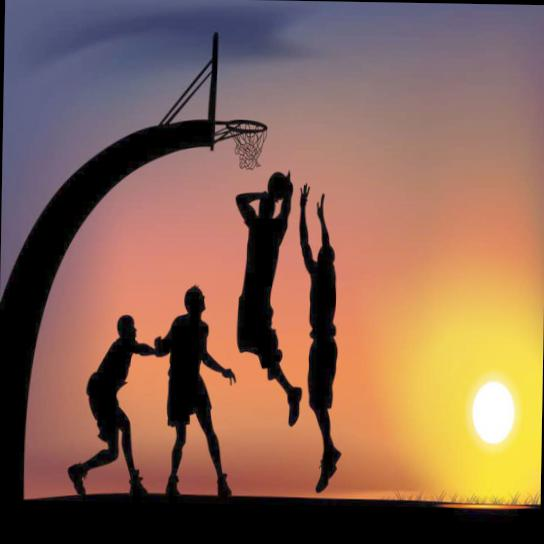basketball-hoop: (224, 113, 270, 172)
